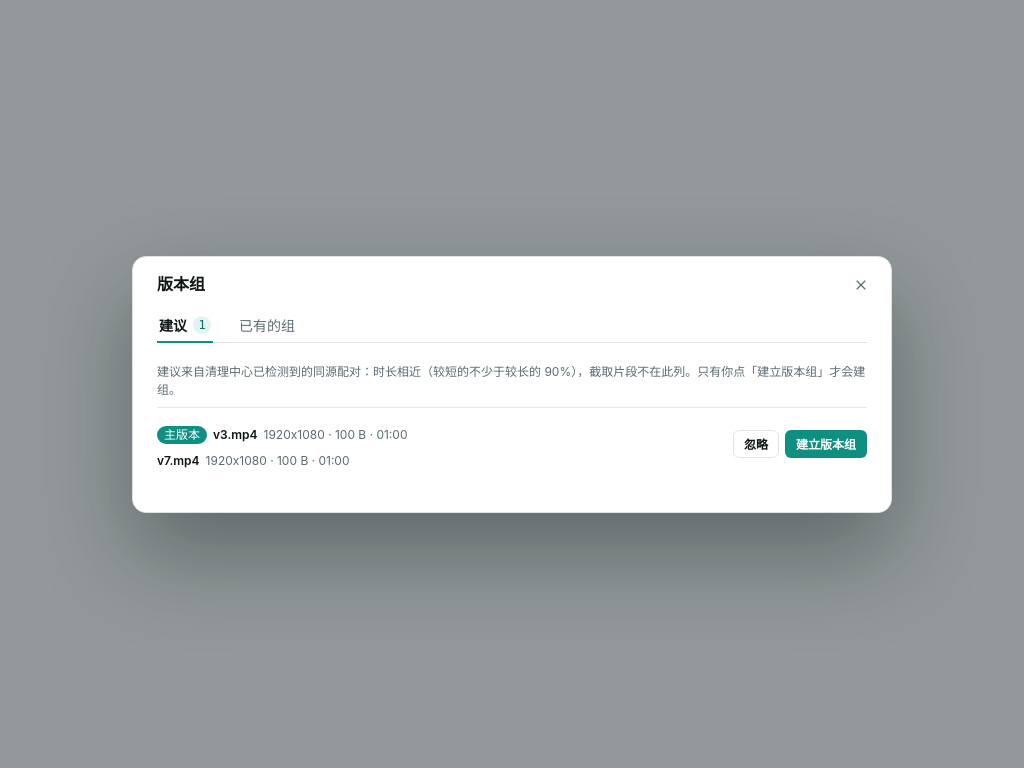
Test: VersionGroupPanel › 忽略建议后从列表移除，不建组
The width and height of the screenshot is (1024, 768).
Click the button with test id "version-panel-dismiss" at (756, 444), box [733,430,779,458]
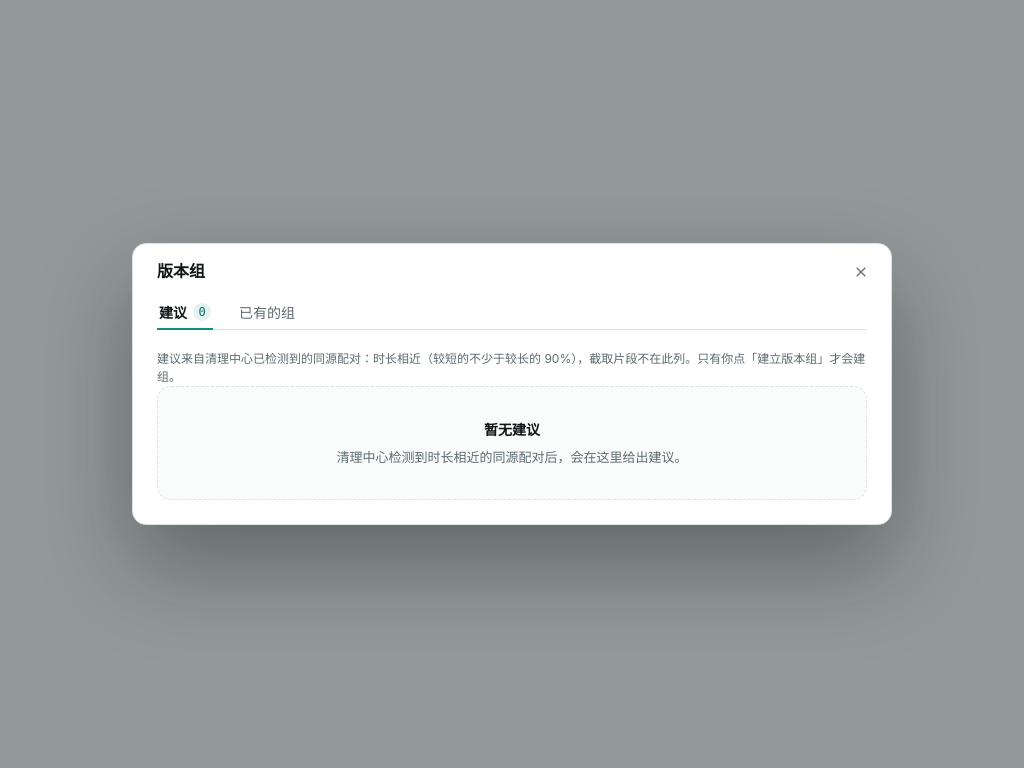
Expected: the element with test id "version-panel-no-suggestions" is shown, [157,386,867,500]
